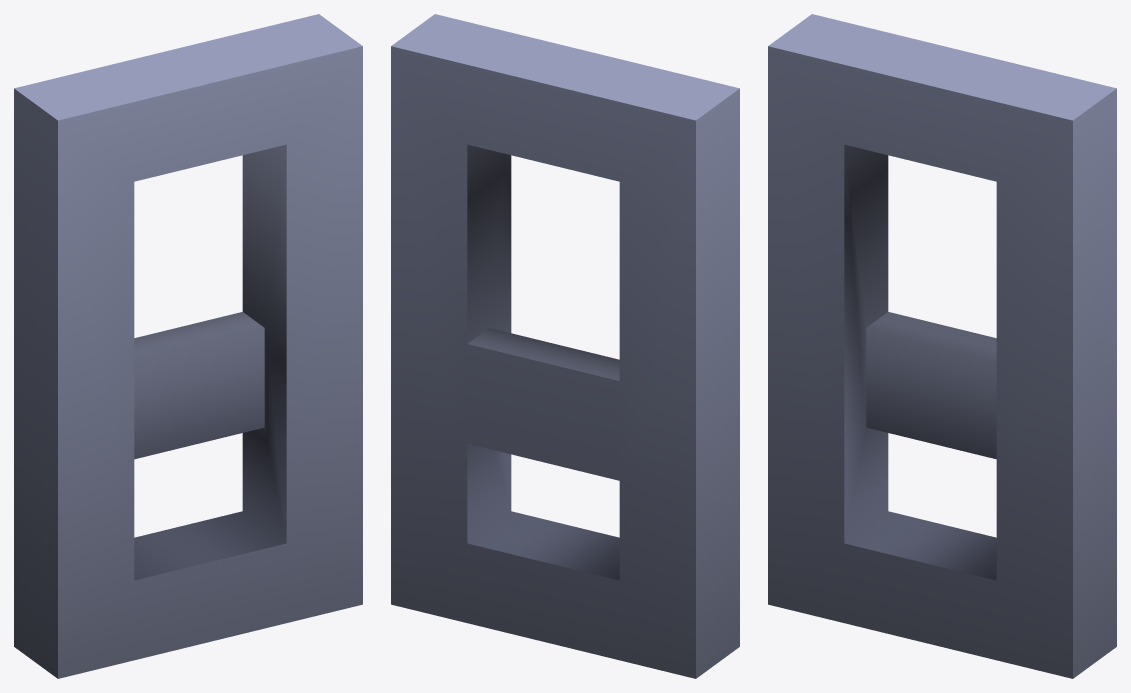
Rendered from door-single.glb.
3 renders of one model, left to right at view 1: azimuth 30°, elevation 25°; view 2: azimuth 150°, elevation 25°; view 3: azimuth 330°, elevation 25°, orthographic.
Parts seen in each view (by area): view 1: door-single; view 2: door-single; view 3: door-single.
Part boxes in pixels (box(x1,y1,x2,y2)): door-single: box(14, 14, 362, 678); door-single: box(391, 14, 739, 678); door-single: box(768, 14, 1116, 678).
Size of the model in its own units: 0.4 by 0.7 by 0.1.
